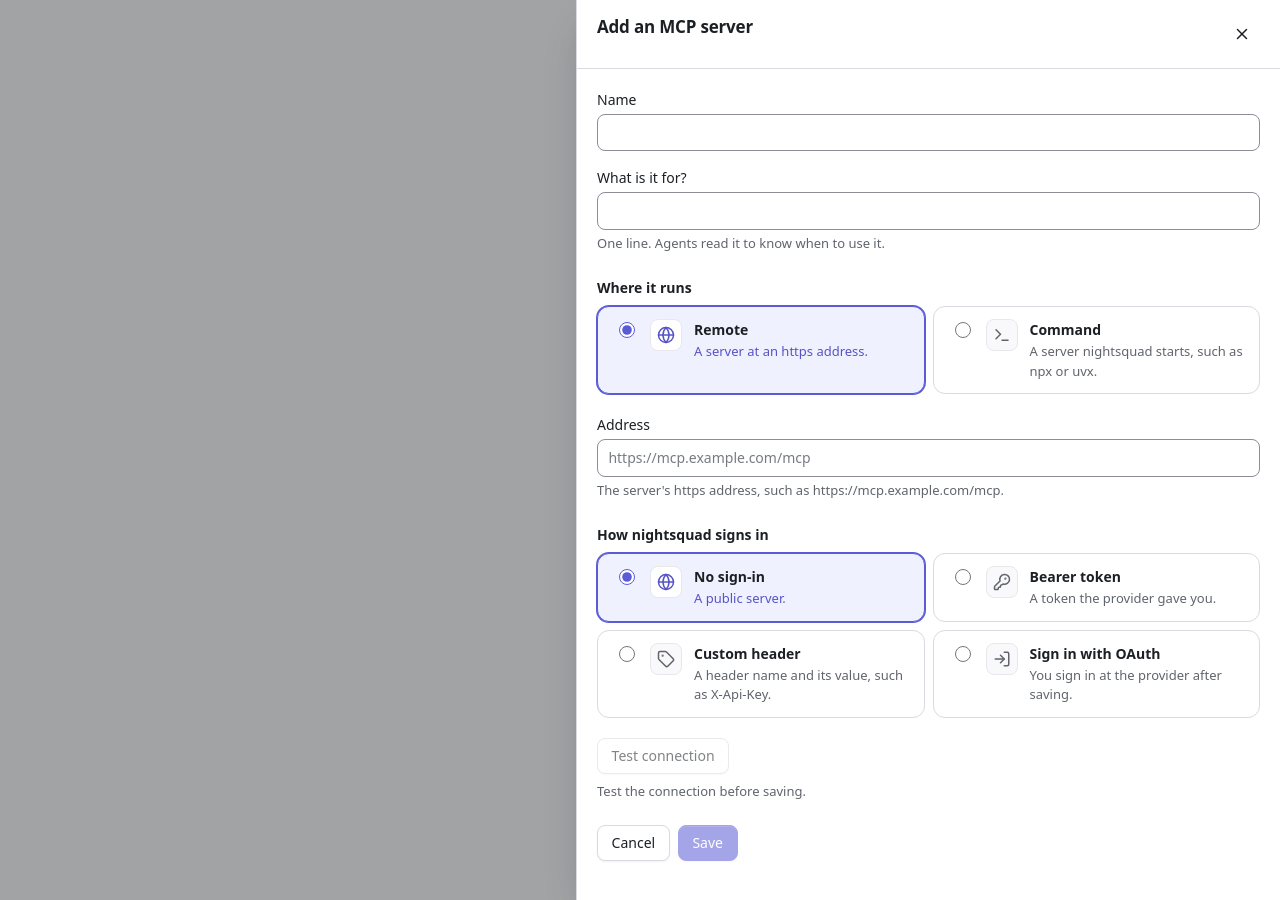
Test: AddMcpSheet (CON-9, CON-15) › needs a new test when the address or sign-in changes
Type "https://a.example.com/mcp" into the field labelled "Address" at [928, 458], box [597, 439, 1260, 477]
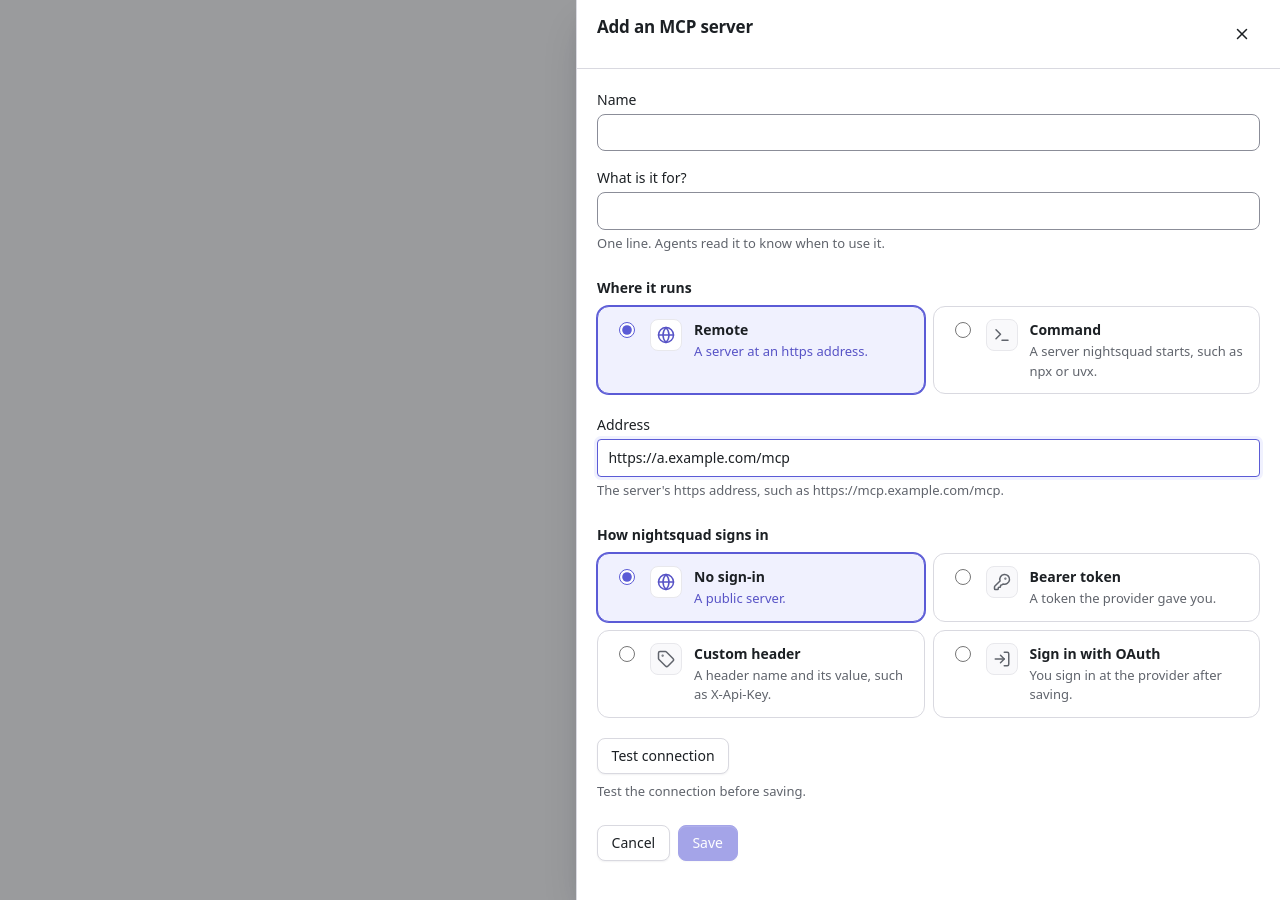
Click the button "Test connection" at [663, 756], box [597, 738, 729, 774]
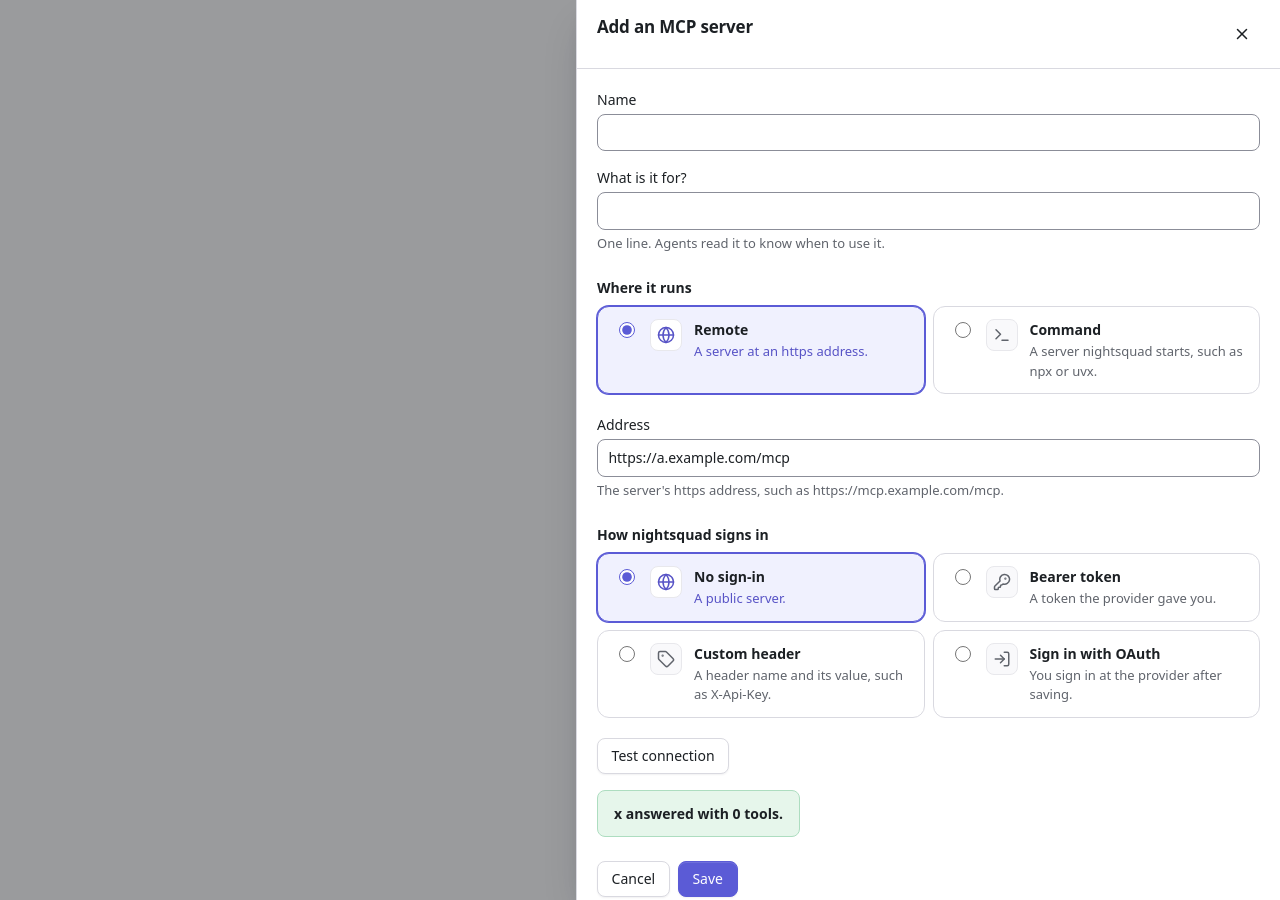
Expected: the message "x answered with 0 tools." is shown, [597, 790, 800, 837]
Type "x" into the field labelled "Address" at [928, 458], box [597, 439, 1260, 477]
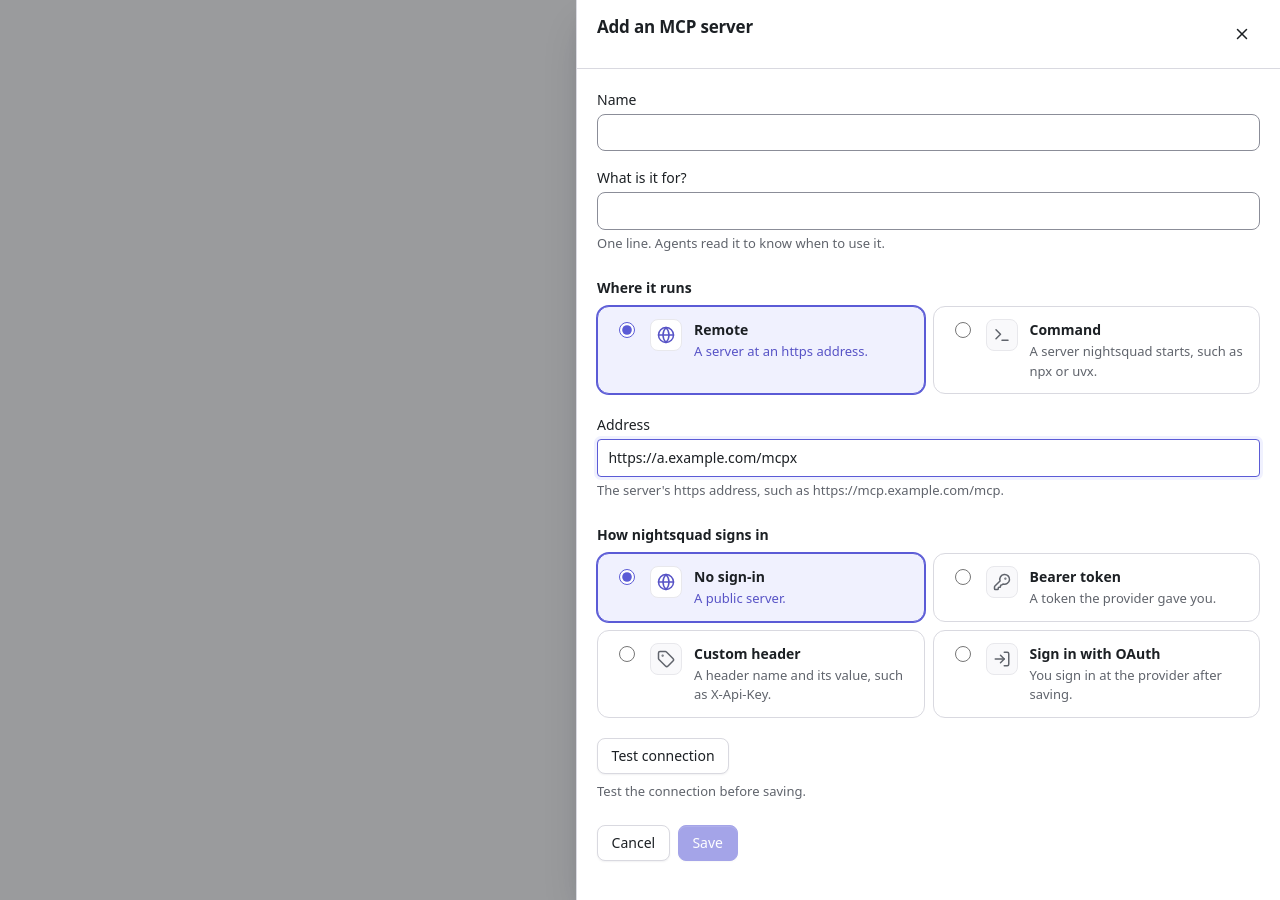
Expected: the message with test id "mcp-probe" is gone
